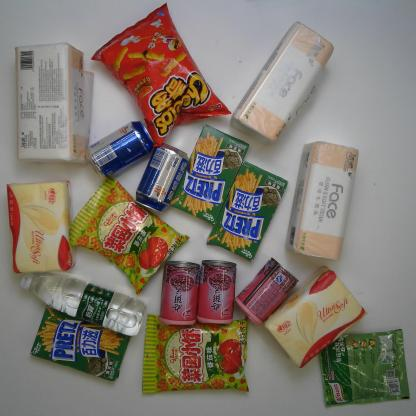Alcohol: (79, 118, 155, 175), (135, 142, 187, 210)
Canned Food: (233, 252, 294, 325), (195, 252, 238, 326), (159, 256, 199, 329)
Dessert: (207, 157, 290, 259), (171, 125, 249, 225), (25, 307, 130, 380)
Drink: (12, 261, 148, 335)
Puffed Food: (92, 0, 229, 142), (70, 180, 190, 294), (136, 313, 252, 396)
Seasoner: (316, 330, 410, 409)
Tissue: (265, 257, 366, 371), (238, 20, 327, 142), (9, 36, 86, 168), (284, 130, 361, 262), (3, 180, 72, 272)
